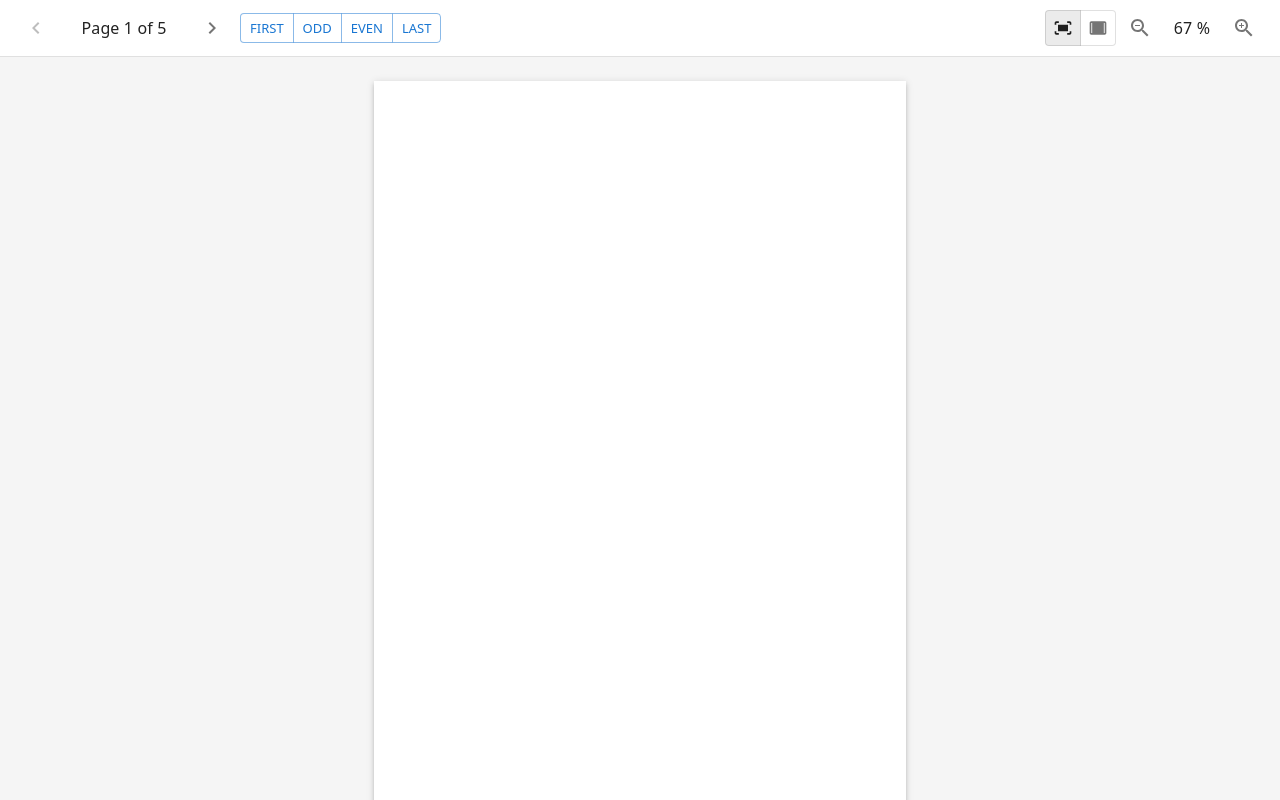
Test: PdfViewer › pages forward and back, with buttons disabled at the ends
expect the button named "Previous page" is disabled: met, box 16,8 -> 56,48
Click the button named "Next page": coordinates (212, 28) 192,8 -> 232,48
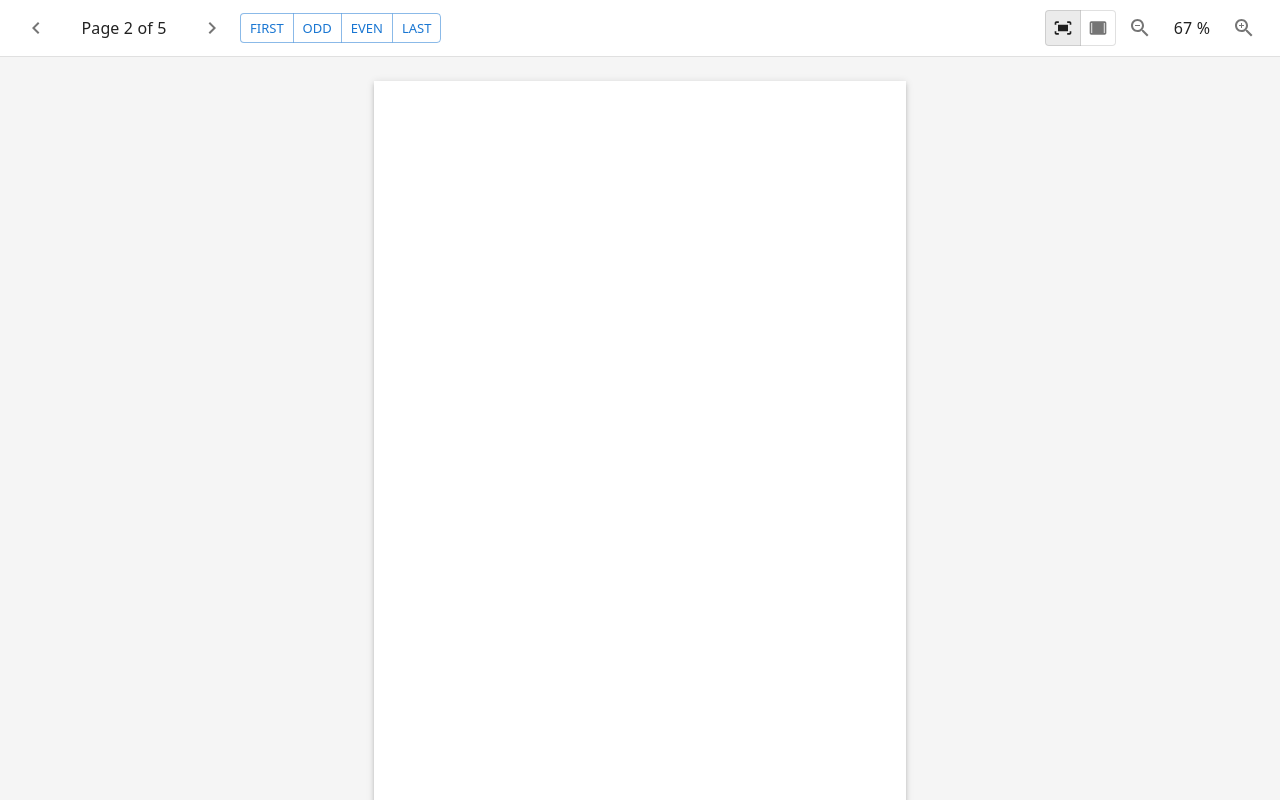
expect the text "Page 2 of 5" is shown: met, box 81,17 -> 166,39
Click the button named "Previous page": coordinates (36, 28) 16,8 -> 56,48
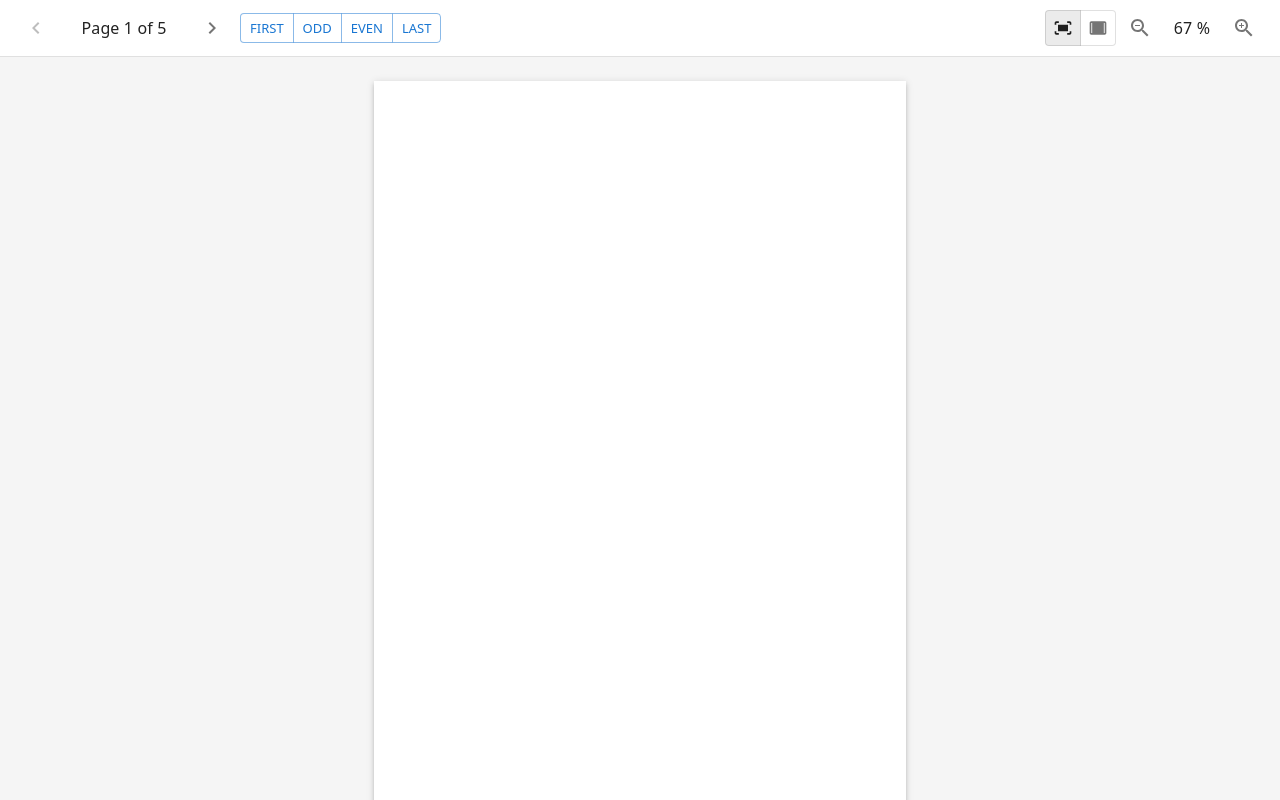
expect the text "Page 1 of 5" is shown: met, box 81,17 -> 166,39
